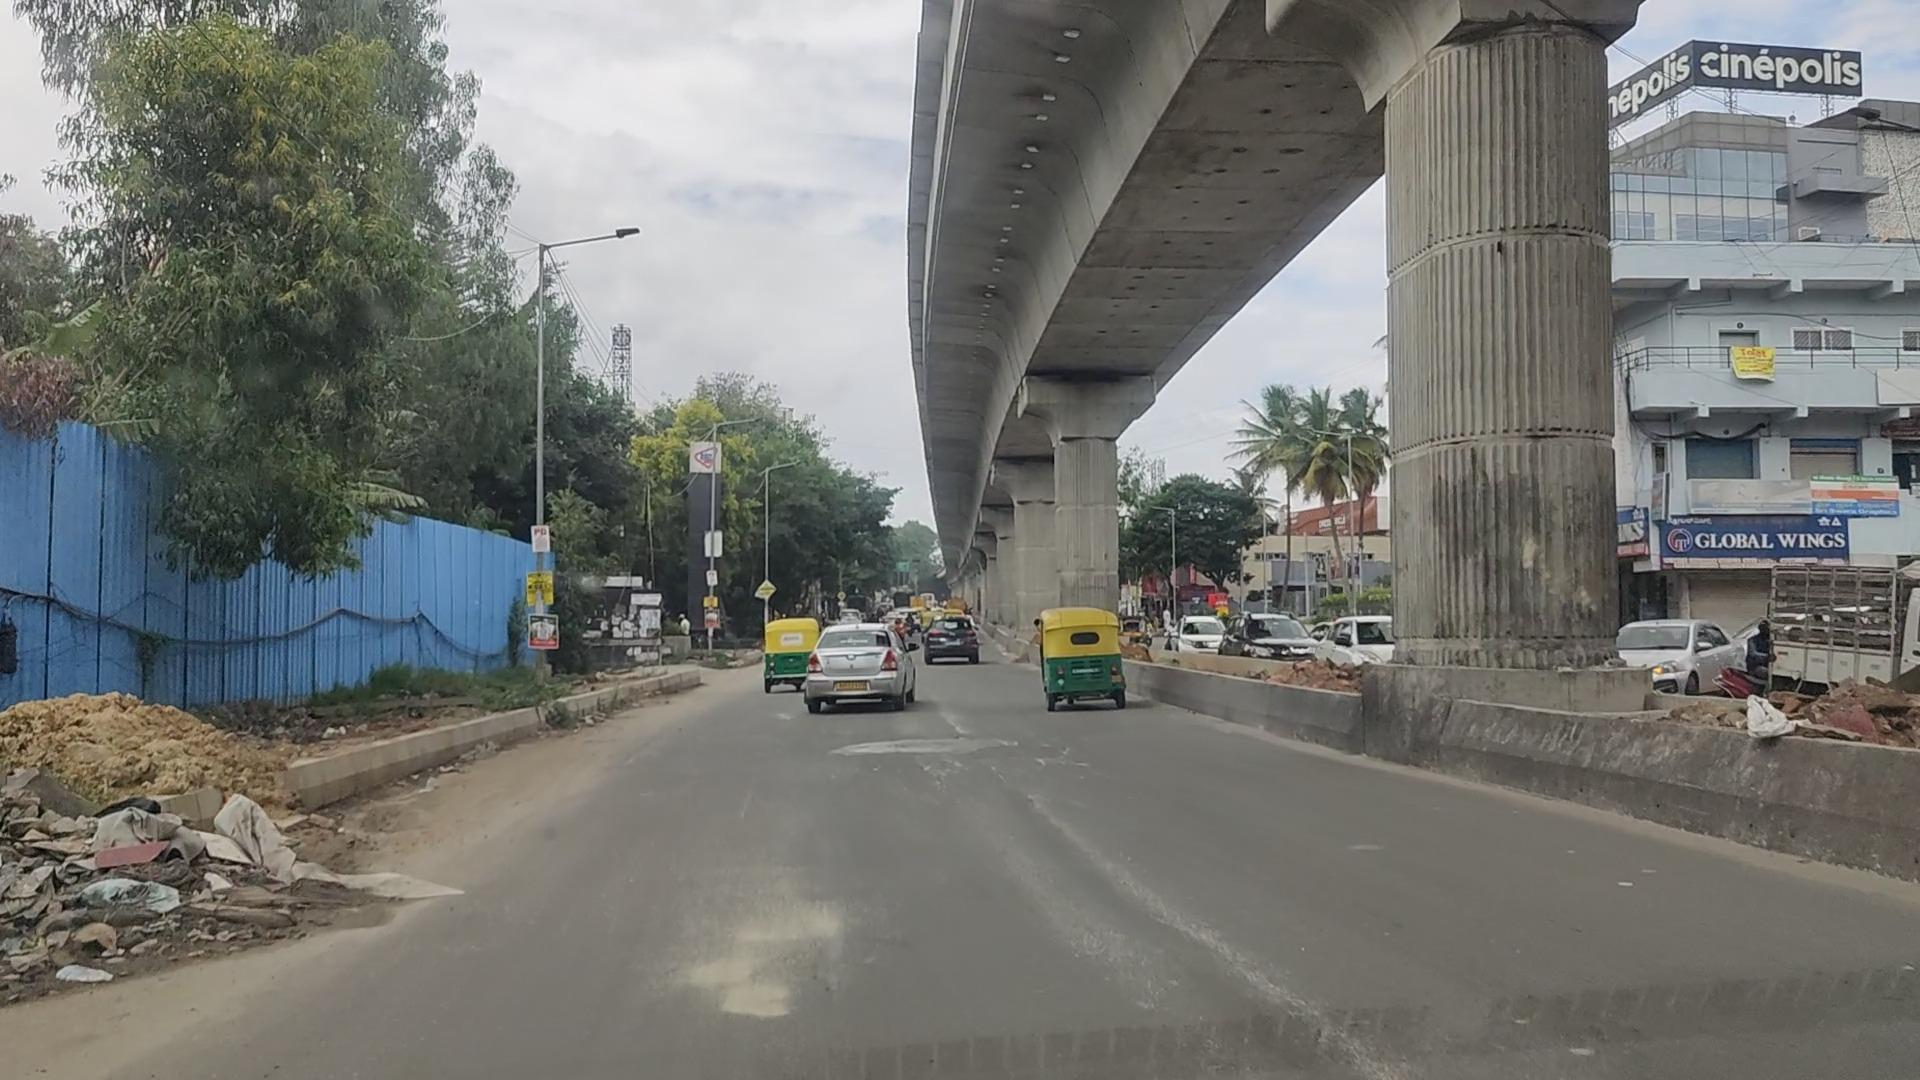LMV: (803, 618, 918, 717), (1029, 608, 1125, 719)
